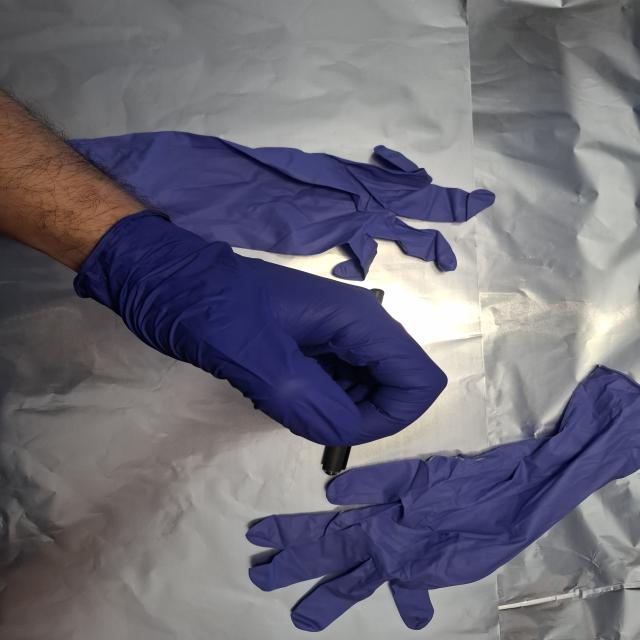glove_on: (74, 207, 453, 452)
